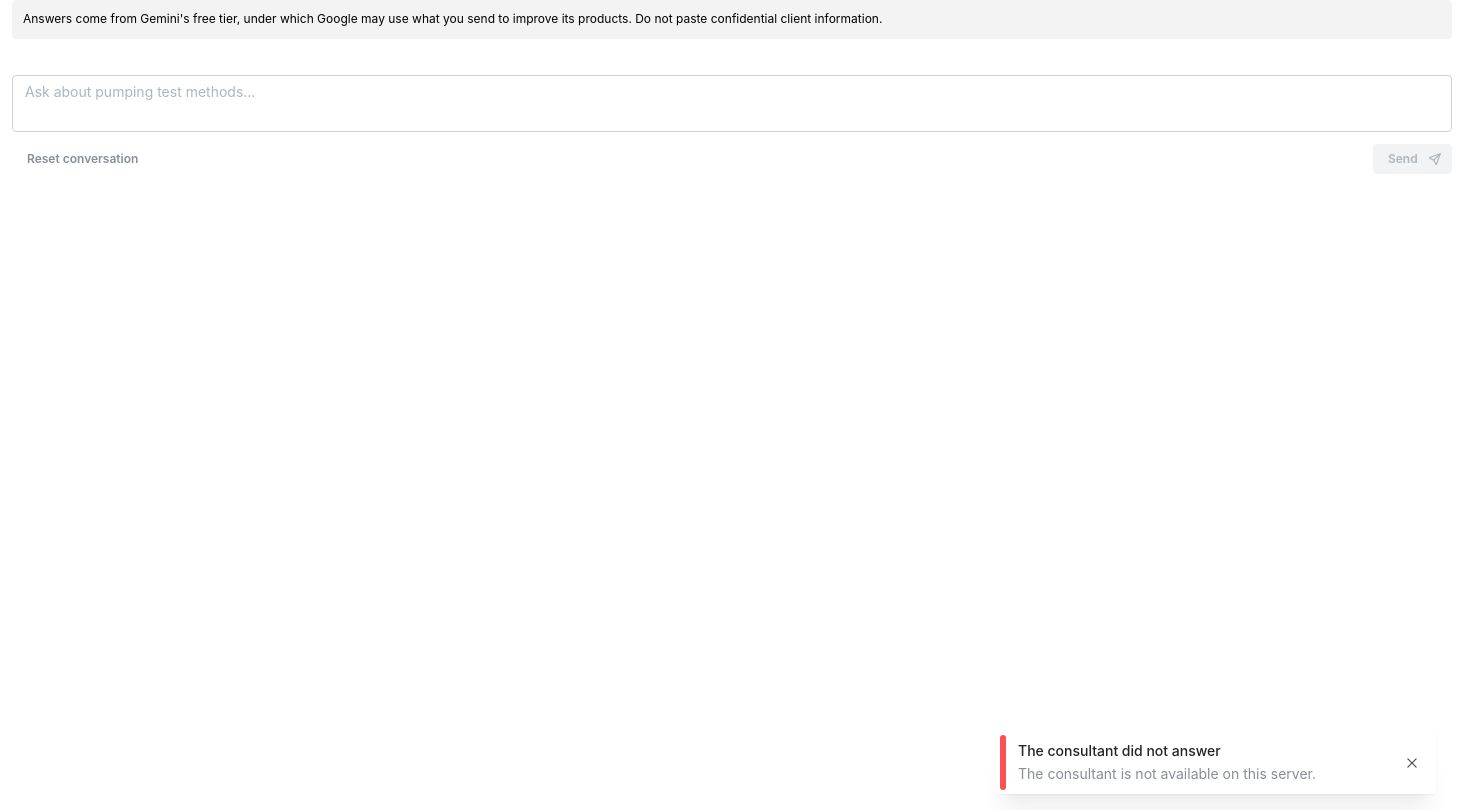
an answer as it is written › leaves one copy of the answer, not two
The width and height of the screenshot is (1464, 810).
Type "when?" into the text box named "Message".
click(732, 103); type("when?")  # box left=12, top=75, right=1452, bottom=132
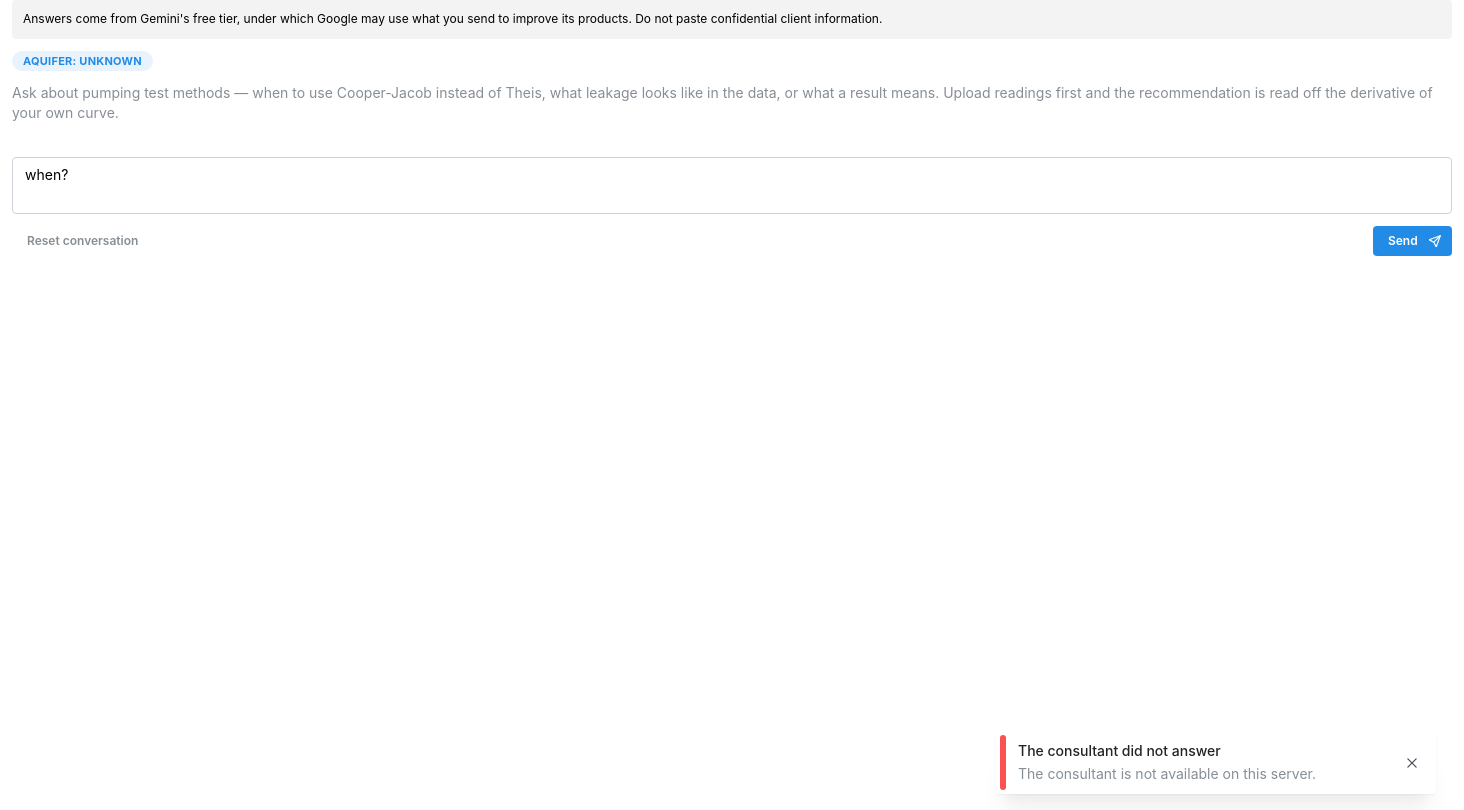
Click the button "Send".
click(1412, 241)  # box left=1373, top=226, right=1452, bottom=256
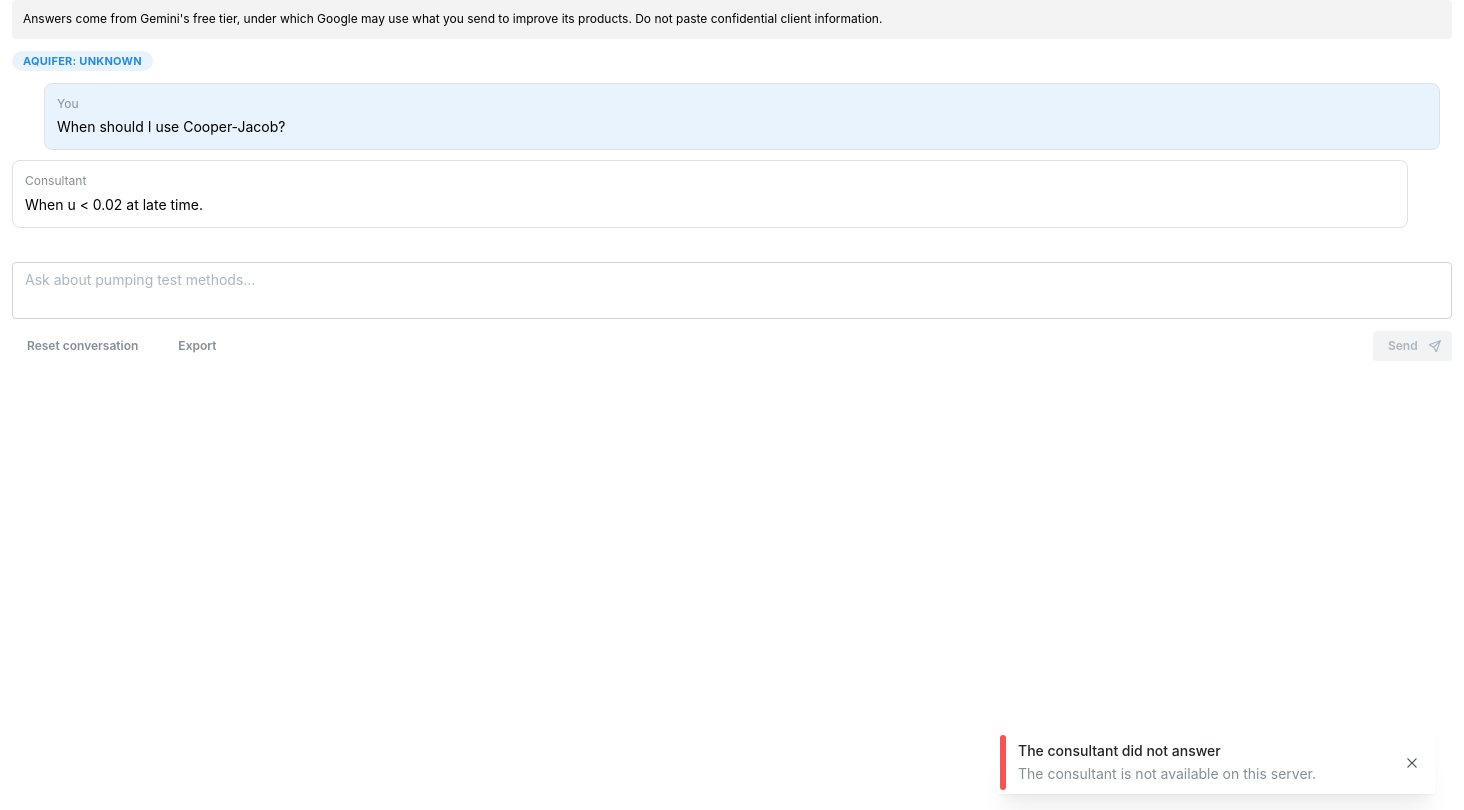
Check: the text "When u < 0.02 at late time." is shown once, box left=25, top=196, right=203, bottom=213
